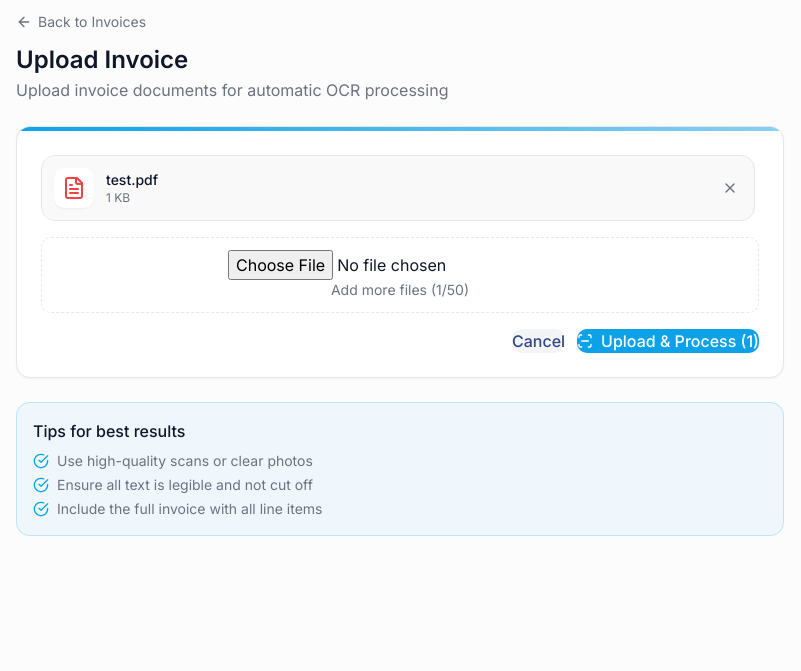
Test case: PostUploadTracker › shows "View all uploaded invoices" link after upload
Expected: the text "test.pdf" is shown, 106,171 -> 158,188
Click the button "Upload & Process (1)" at [668, 341], box 577,329 -> 759,353
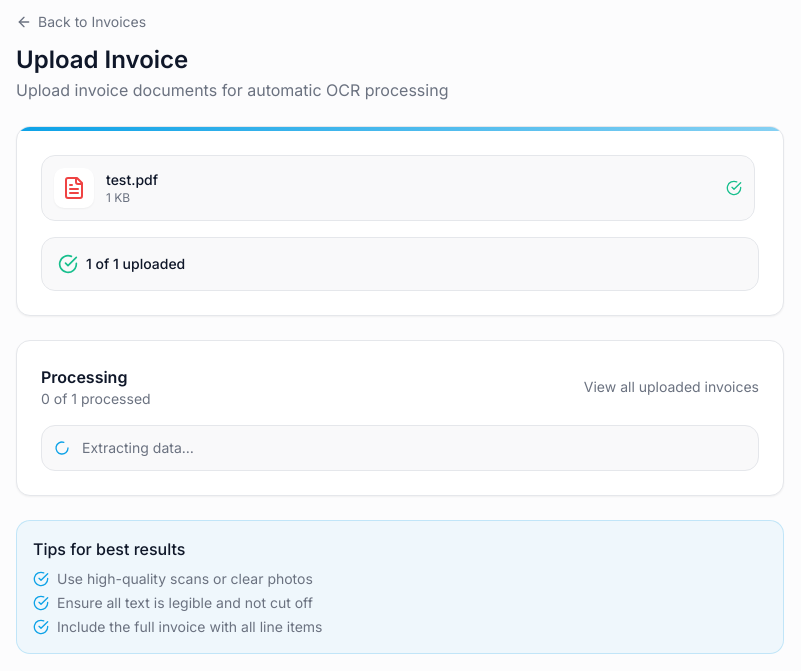
Result: the link "View all uploaded invoices" is shown at 584,377 -> 759,397
